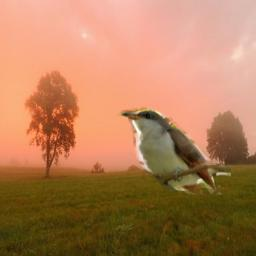Cuckoo: (117, 101, 231, 195)
